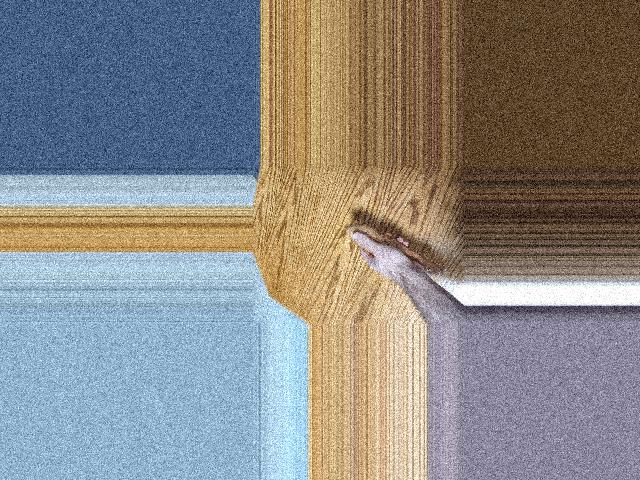sweet_potato: (345, 220, 451, 279)
